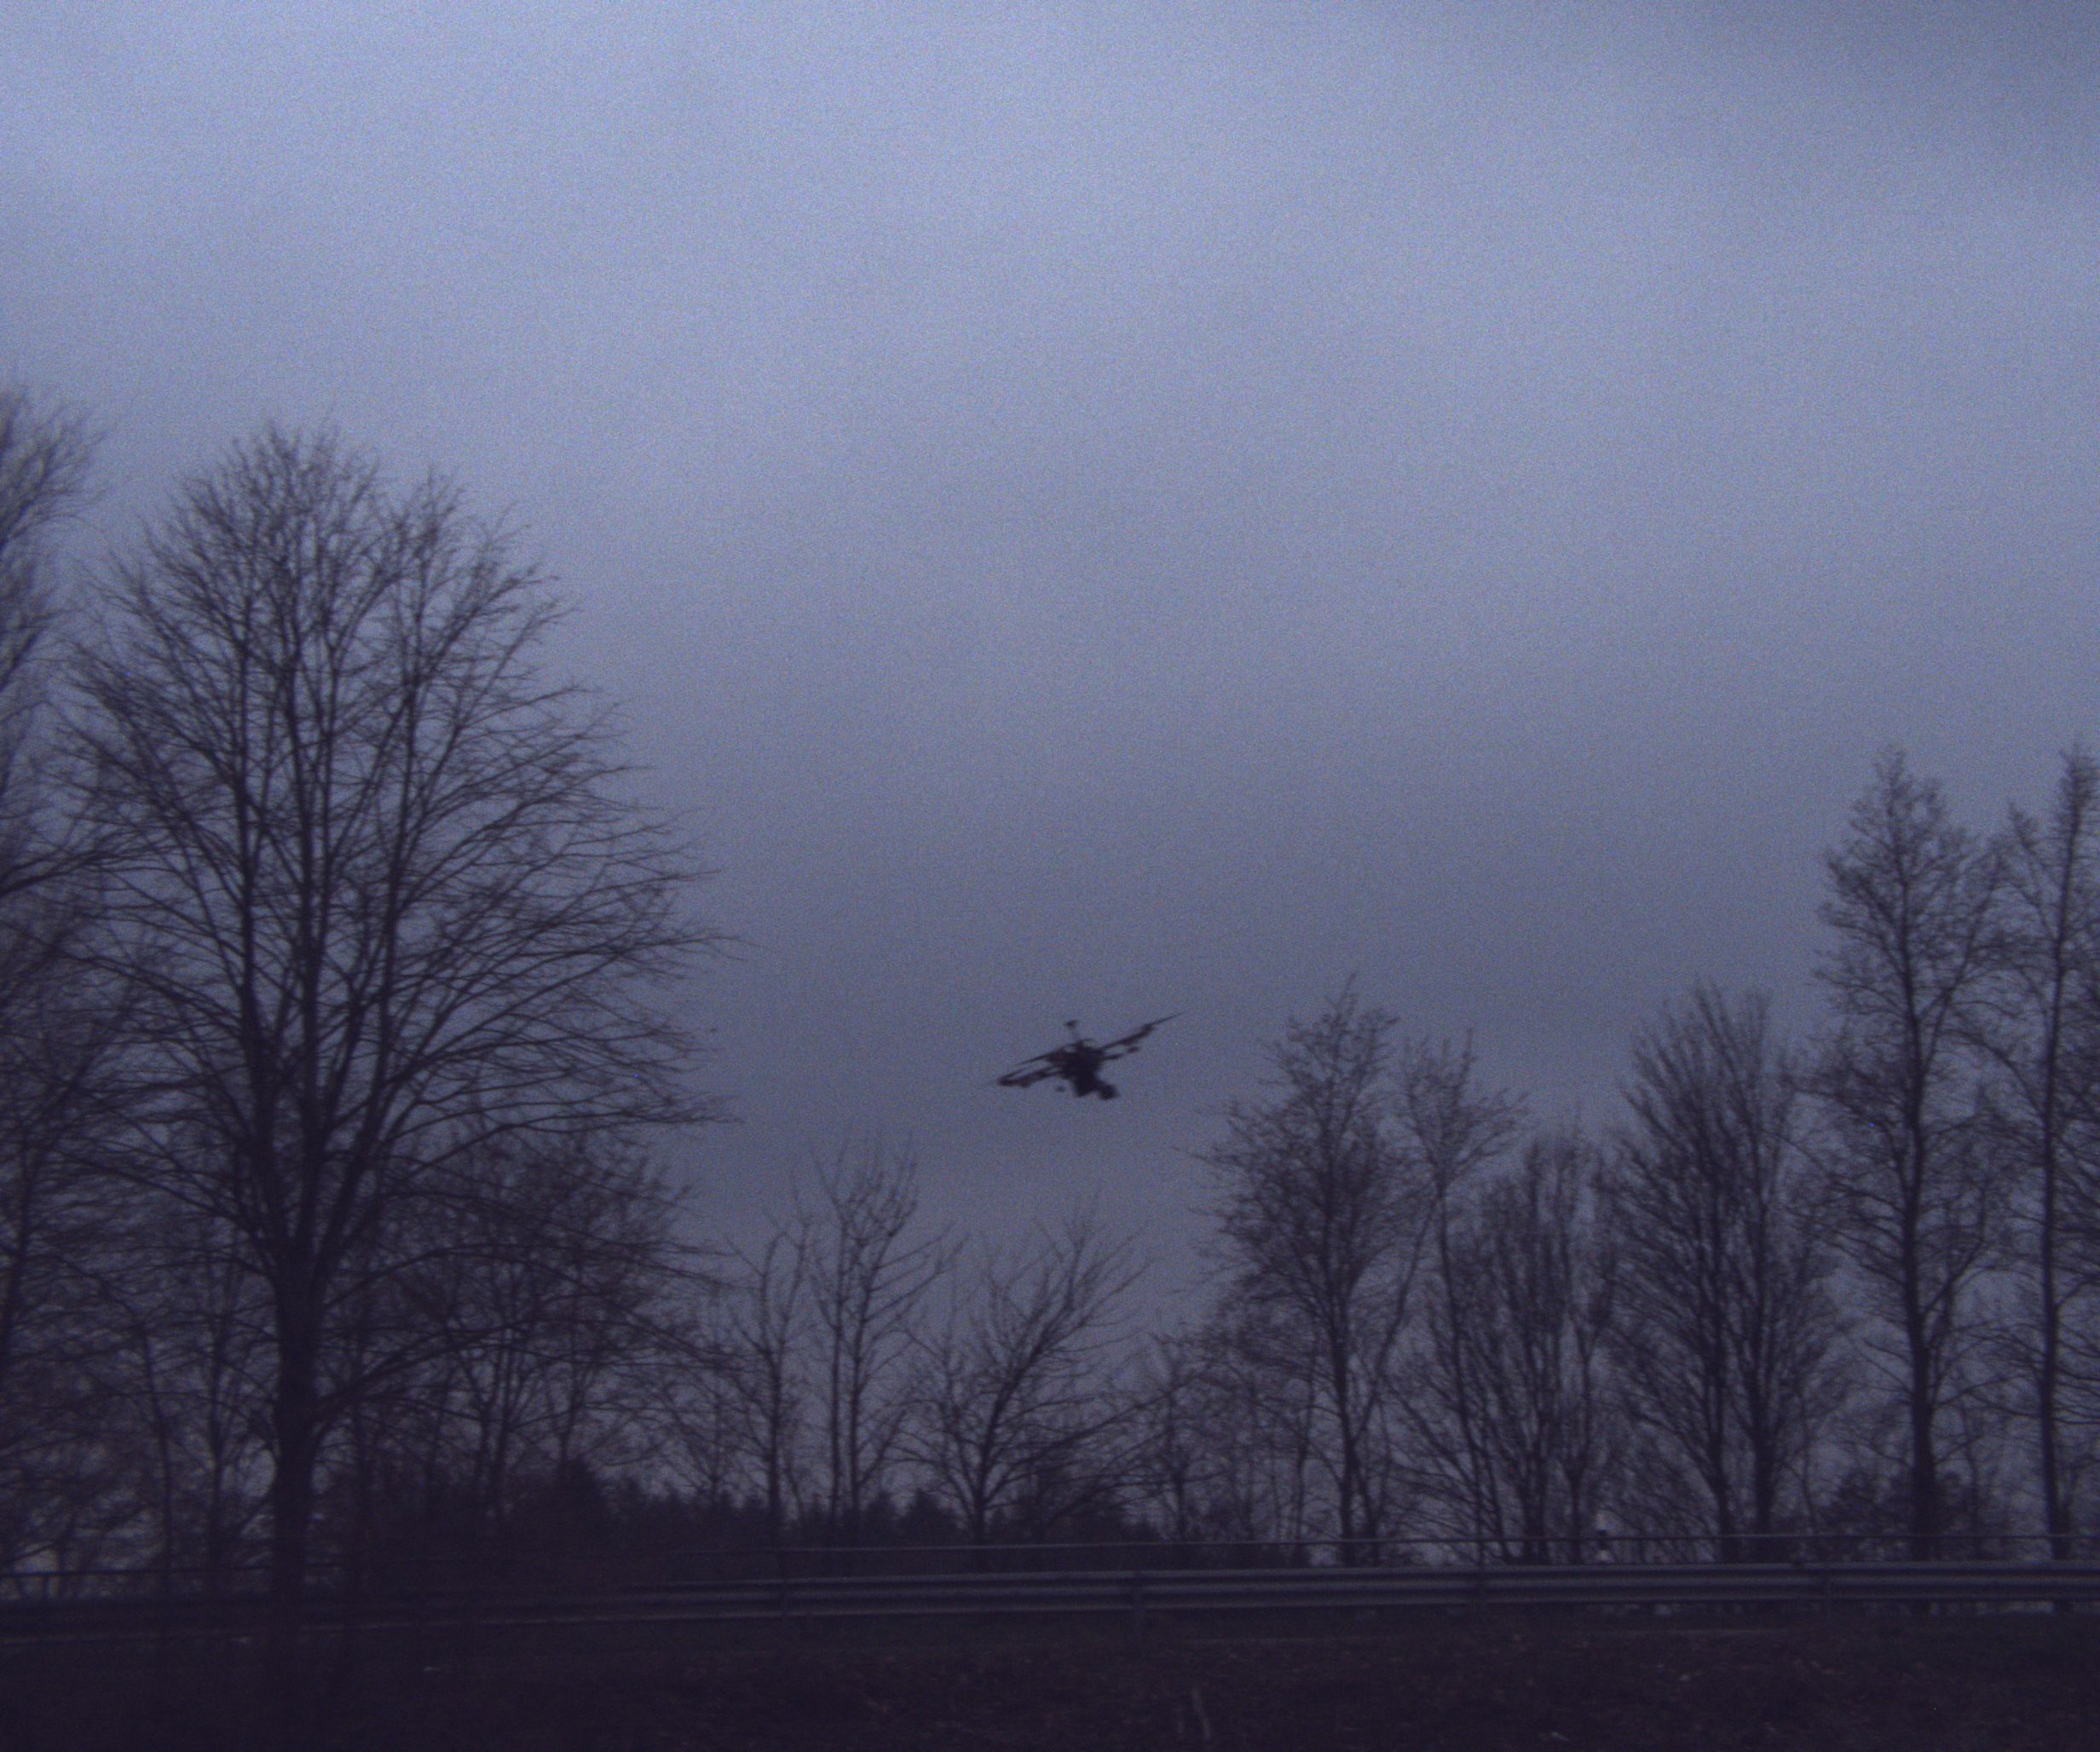Drohne: (959, 968, 1252, 1137)
